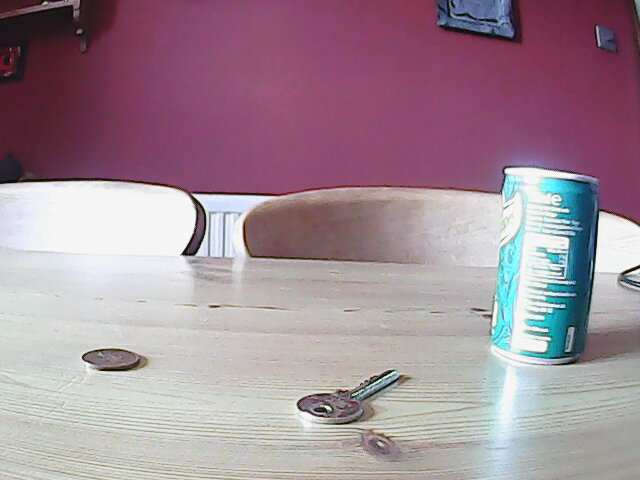Can: (486, 164, 595, 369)
Coin: (81, 345, 141, 374)
Key: (294, 367, 403, 429)
